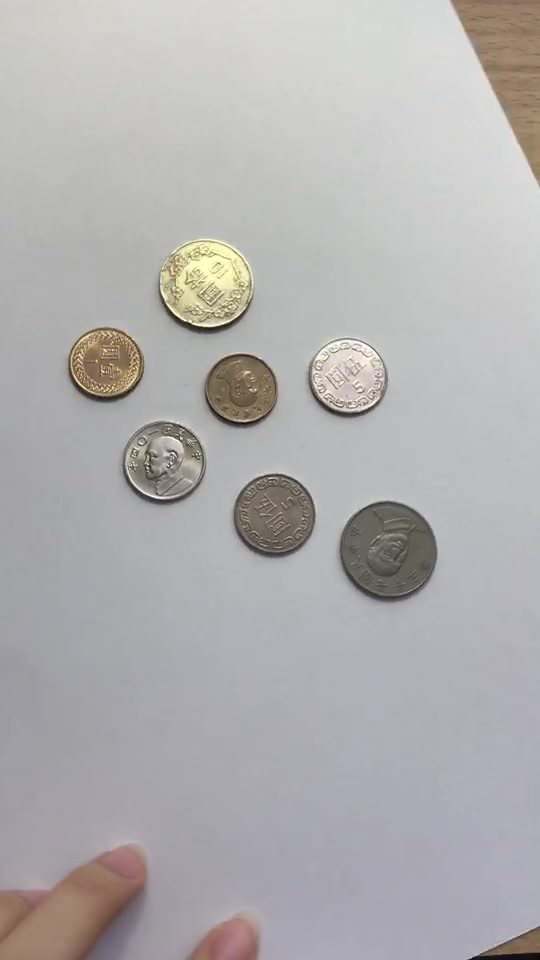1 dallar: (61, 321, 145, 404), (200, 345, 284, 428)
10 dallar: (334, 496, 443, 607), (148, 233, 256, 335)
5 dallar: (116, 413, 211, 512), (299, 329, 394, 428), (227, 464, 322, 563)
